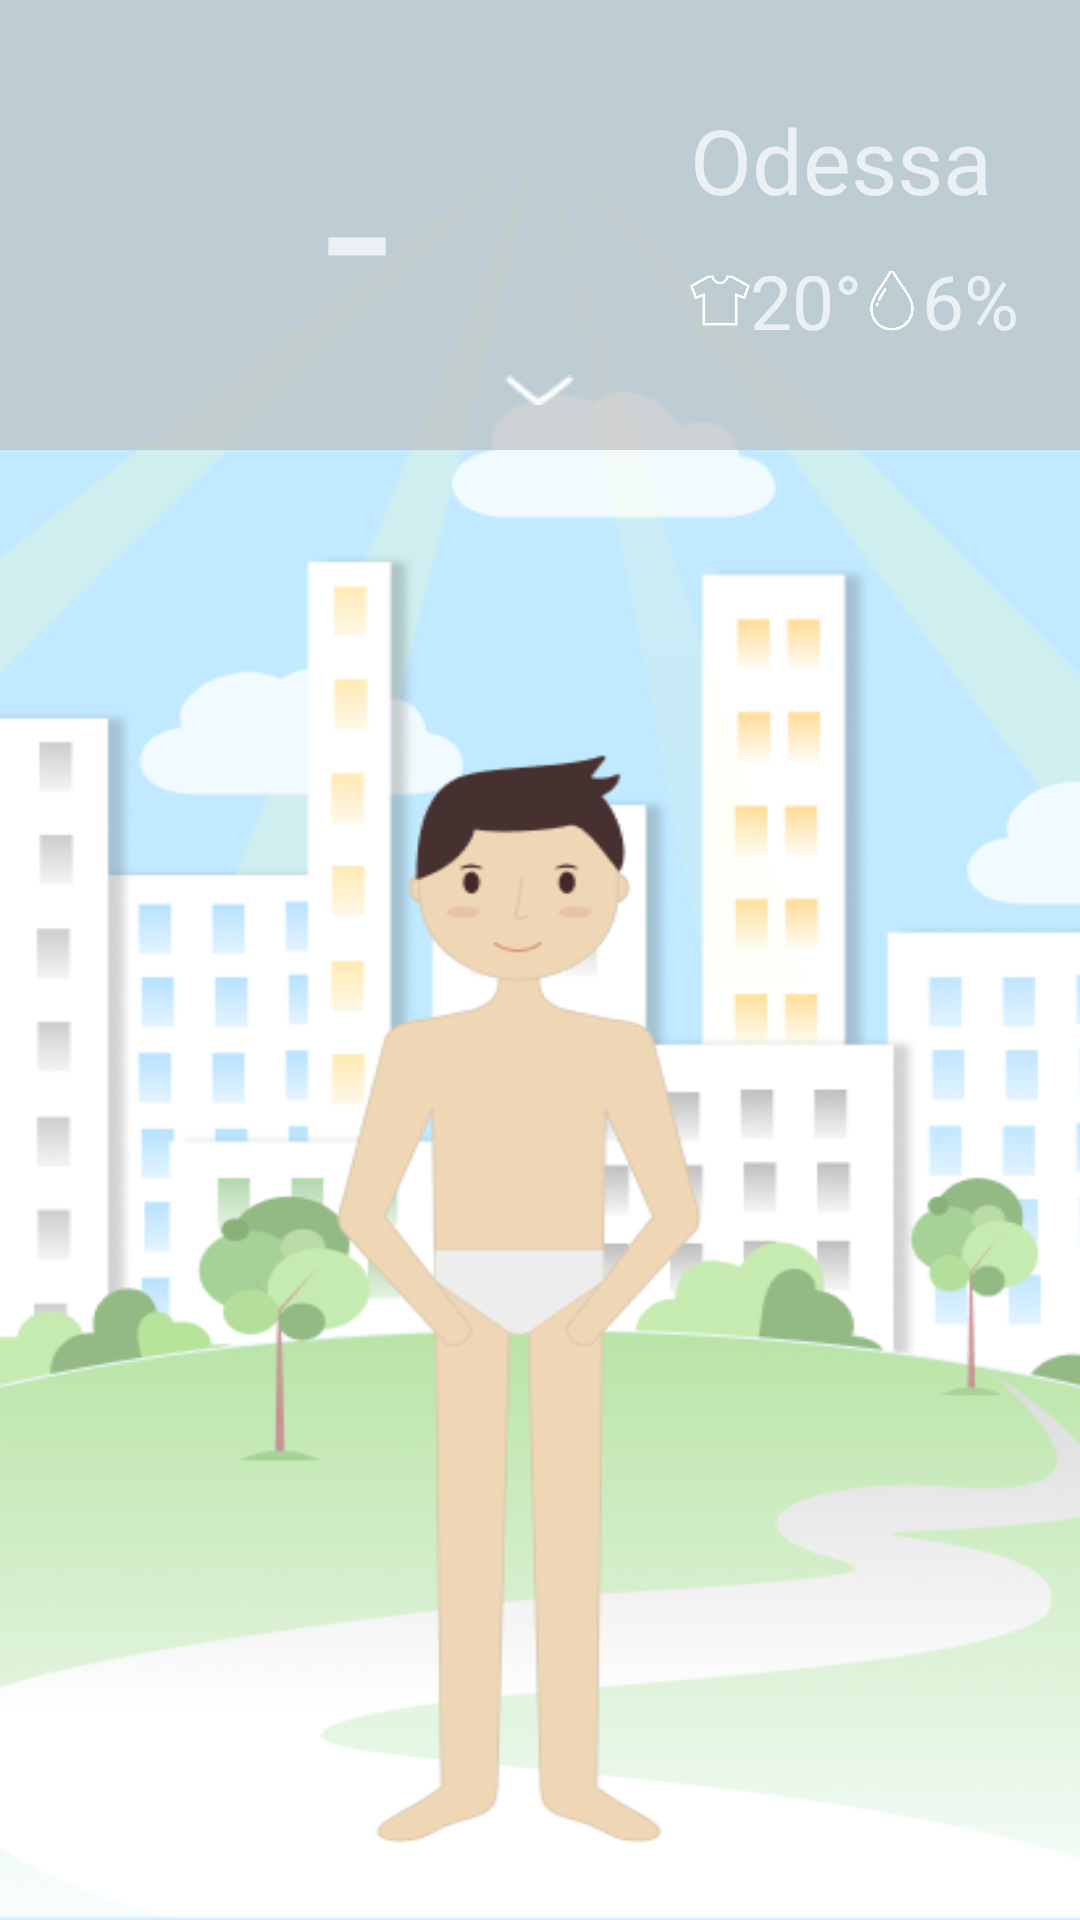

Icons on this 1080 x 1920 Android screen, each with its box as (x1,y1,x2,y2):
drop: (870,271,914,331)
shirt: (690,275,750,326)
swipe: (505,375,574,405)
